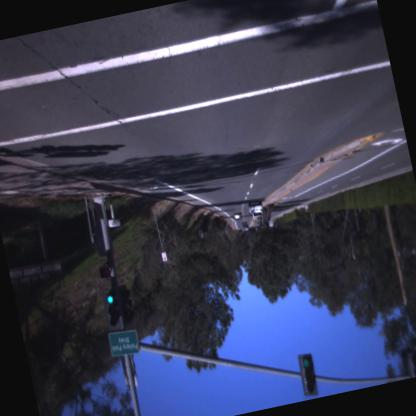trafficlight: (101, 288, 124, 335), (298, 351, 320, 393)
